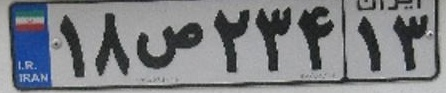character: (131, 13, 208, 76), (252, 1, 297, 77), (208, 6, 254, 79), (296, 2, 338, 74), (89, 9, 131, 77), (389, 11, 432, 72), (54, 6, 88, 79), (352, 15, 386, 74)
